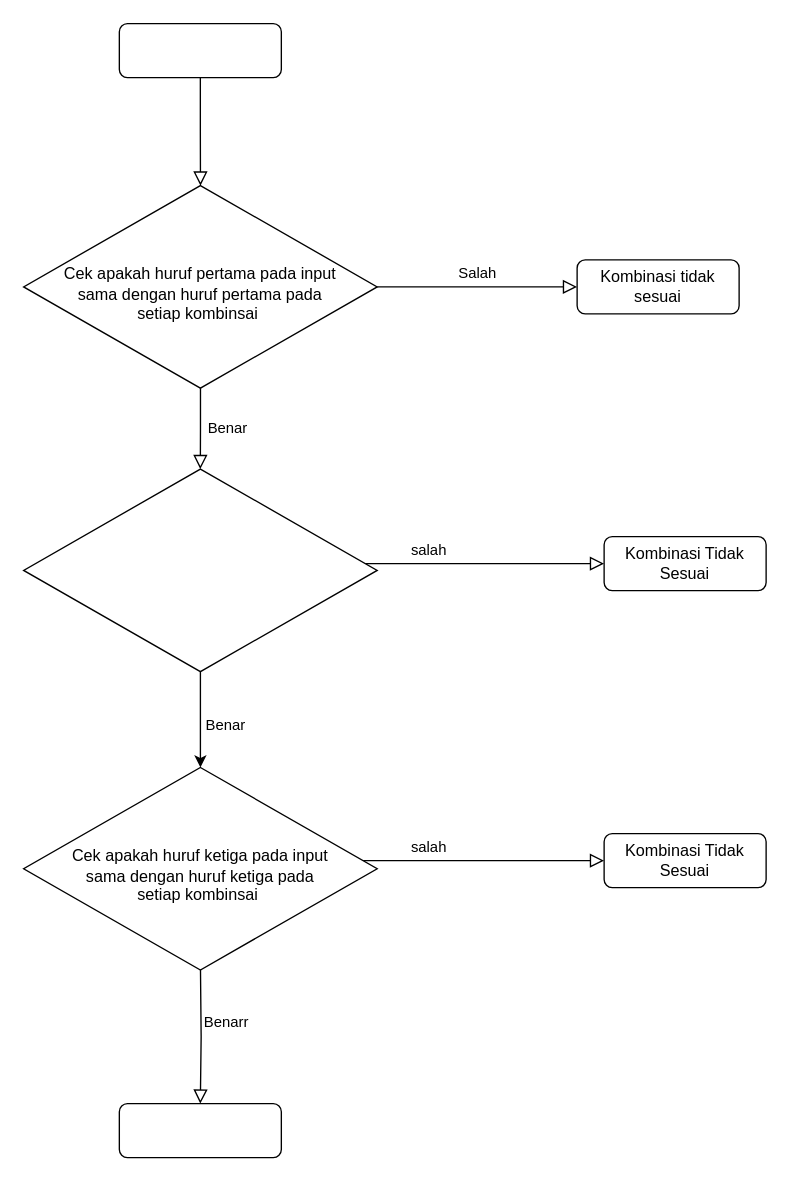
This 790x1181 diagram has some shape labels left out. The shapes that lost their labels are listed below. From the top down, each one's centre as x and y in pixels, then its label:
At (199,50): "Masukan 3 huruf".
At (199,570): "Cek apakah huruf kedua pada input sama dengan huruf kedua pada setiap kombinsai".
At (199,1130): "Kombinasi sesuai".
